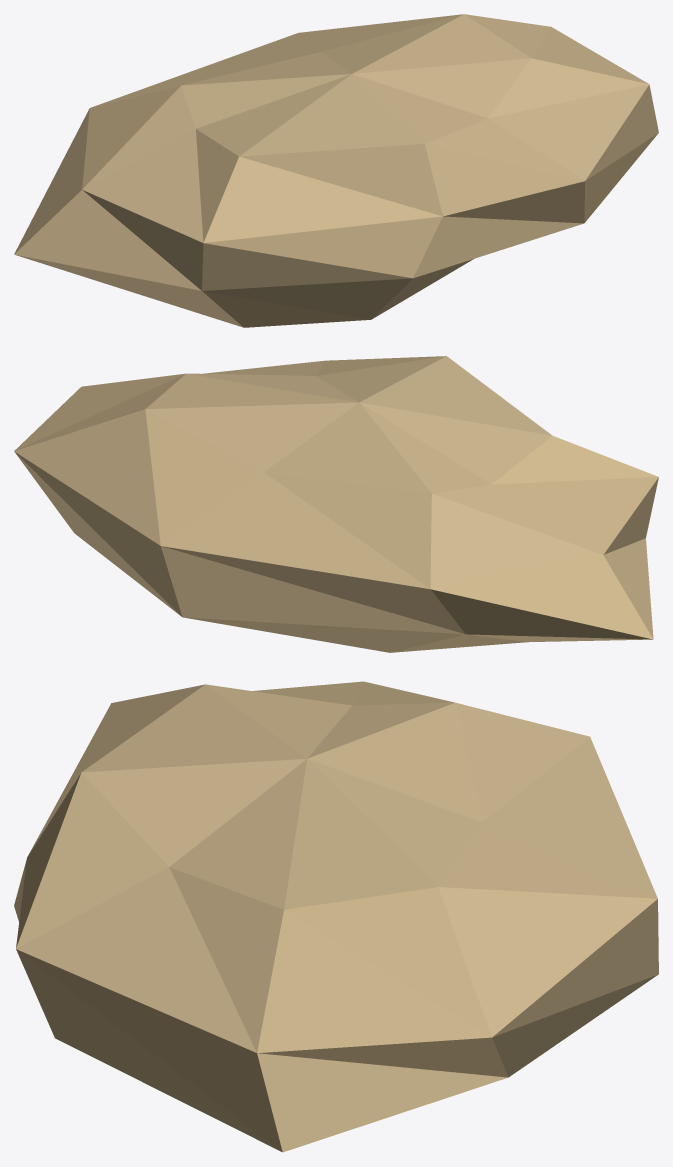
The model's file is sand_dune_small.glb.
The picture shows the model from 3 angles, top to bottom: view 1: azimuth 30°, elevation 25°; view 2: azimuth 150°, elevation 25°; view 3: azimuth 270°, elevation 25°; orthographic projection. The views are drawn at different scales.
Parts seen in each view (by area): view 1: sand_dune_small; view 2: sand_dune_small; view 3: sand_dune_small.
Part boxes in pixels (left/top/right/bottom): sand_dune_small: left=14, top=14, right=658, bottom=327; sand_dune_small: left=14, top=356, right=658, bottom=652; sand_dune_small: left=14, top=681, right=658, bottom=1152.
Bounding box in the file's own units: 4.01 × 1.2 × 2.54.
